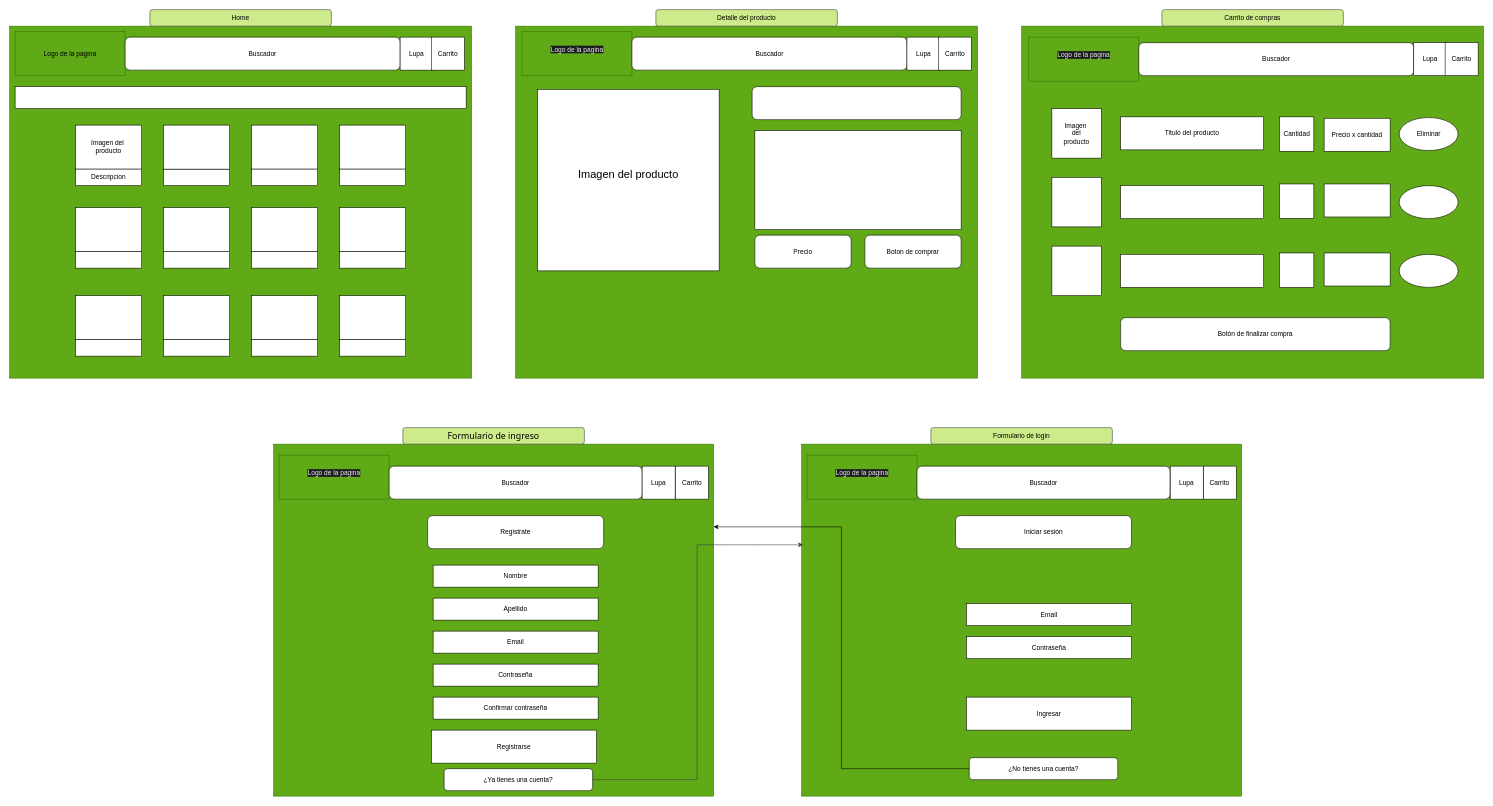
This 1493x806 diagram has some shape labels left out. The centre of each missing label's shape, as x and y in pixels:
"Filtros" goes at point (240, 97).
"Nombre del Producto" goes at point (856, 103).
"Texto descriptivo" goes at point (857, 180).
